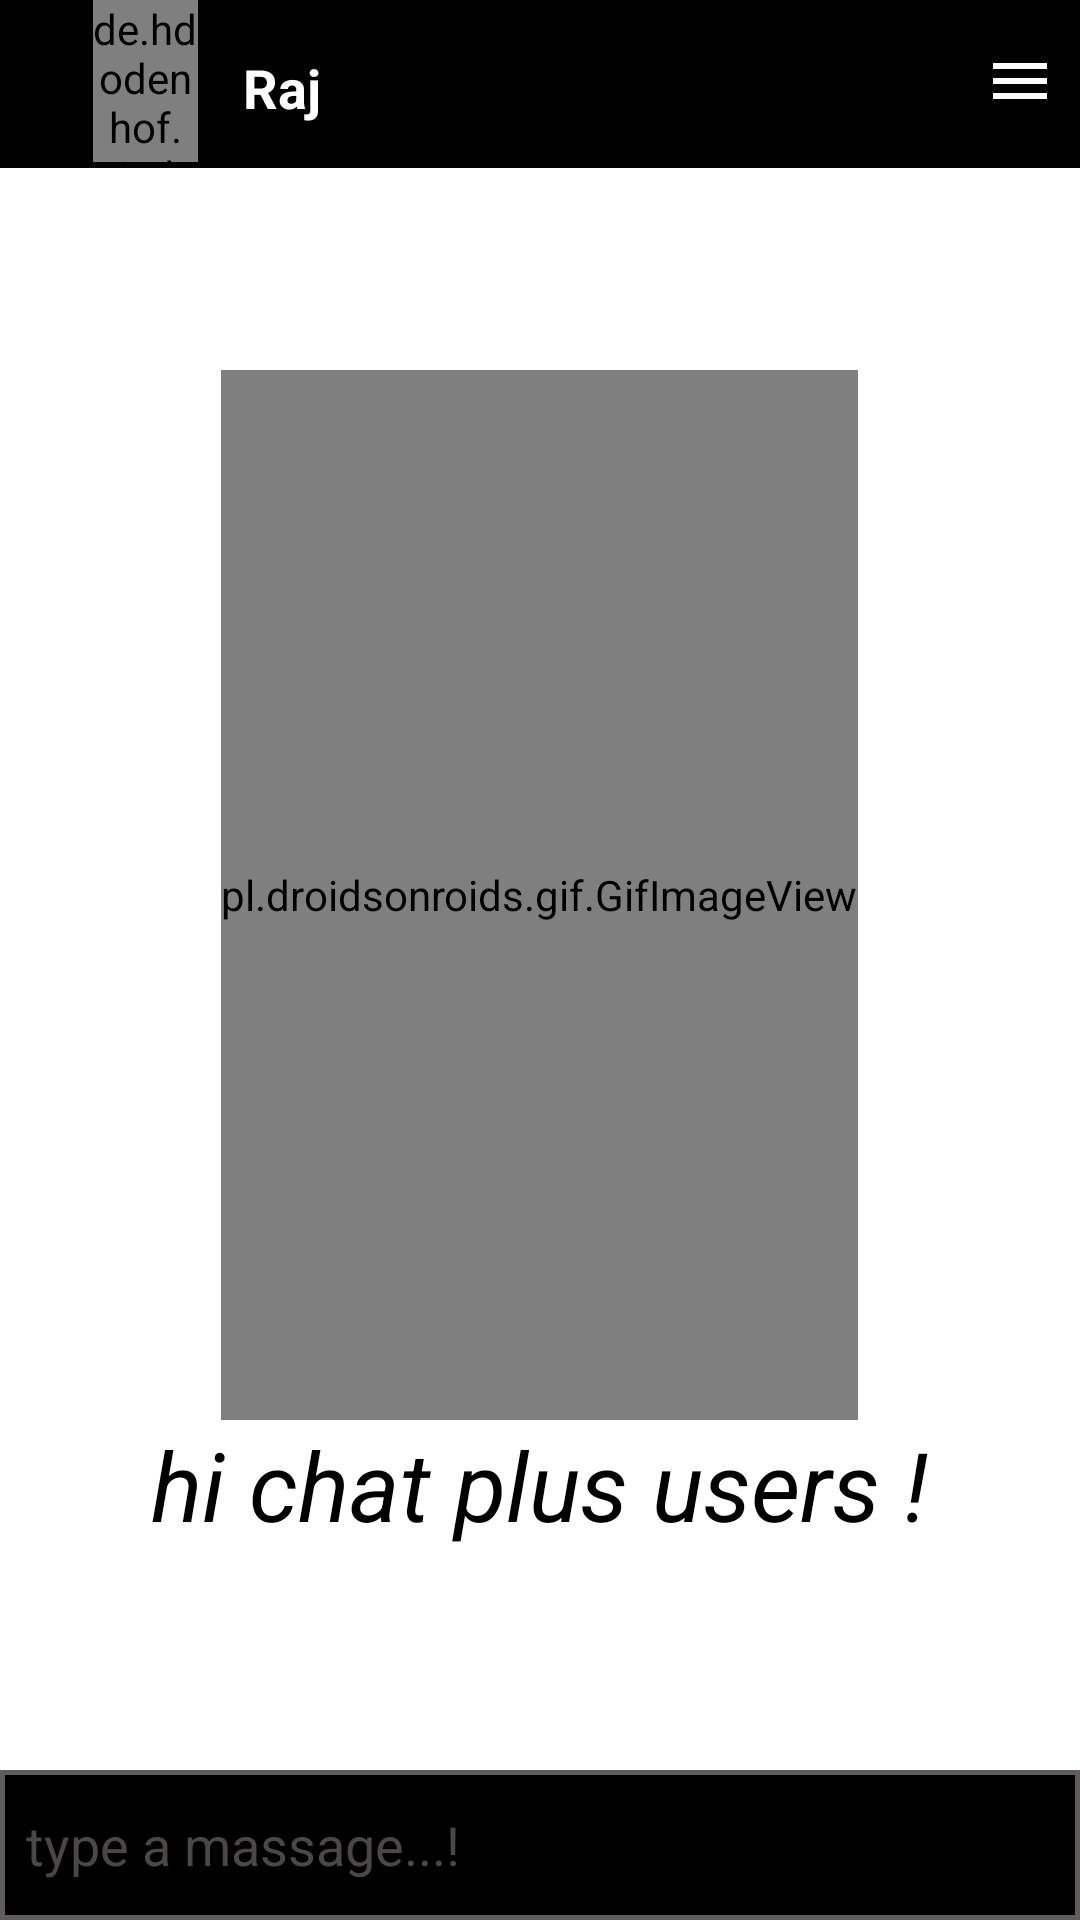

Locate icon controls on the screen. Image size 1080*1920, boxes as (x1,y1,x2,y2).
menu: (993,63,1047,99)
